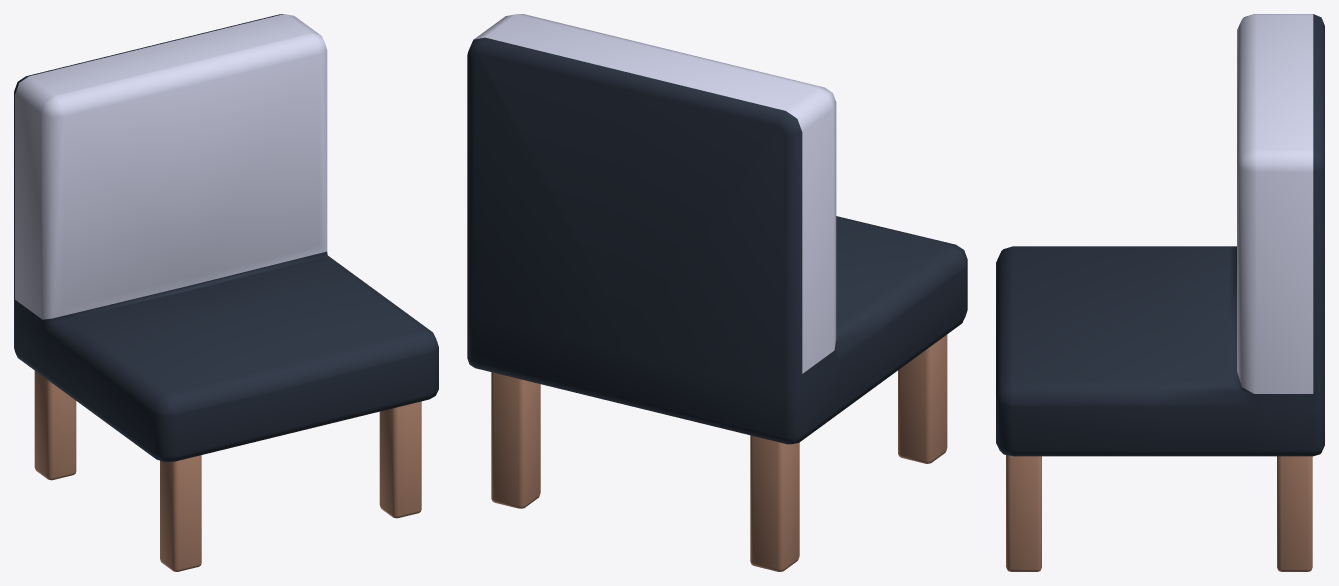
The model's file is chair.fbx.
The picture shows the model from 3 angles, left to right: view 1: azimuth 30°, elevation 25°; view 2: azimuth 150°, elevation 25°; view 3: azimuth 270°, elevation 25°; orthographic projection. The views are drawn at different scales.
Visible parts, largest first — view 1: chair, chair_legs; view 2: chair, chair_legs; view 3: chair, chair_legs.
Part boxes in pixels (left/top/right/bottom): chair: left=14, top=14, right=438, bottom=461; chair_legs: left=34, top=370, right=421, bottom=571; chair: left=467, top=14, right=967, bottom=444; chair_legs: left=491, top=334, right=947, bottom=571; chair: left=996, top=14, right=1324, bottom=456; chair_legs: left=1006, top=455, right=1312, bottom=571.
Bounding box in the file's own units: 80.56 × 107 × 74.99.
1 material, 1 textured.
